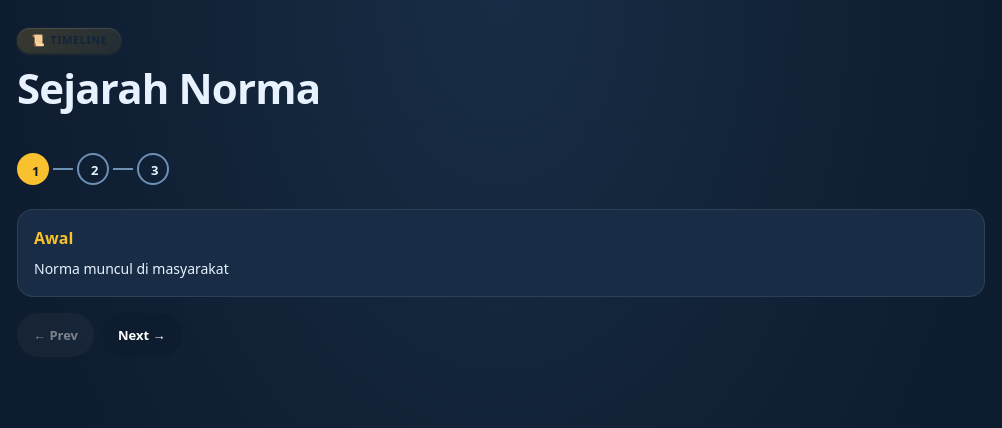
PERFECT-MPI-RENDER-COMPLETE-02 — Scope A: Timeline Story › 2. timeline next/prev changes active step
This screenshot has width=1002, height=428.
Expected: the element with test id "timeline-event-detail" shows "Awal", [34, 227, 73, 249]
// Click next
Click the button with test id "timeline-next" at (142, 335), box [102, 313, 182, 357]
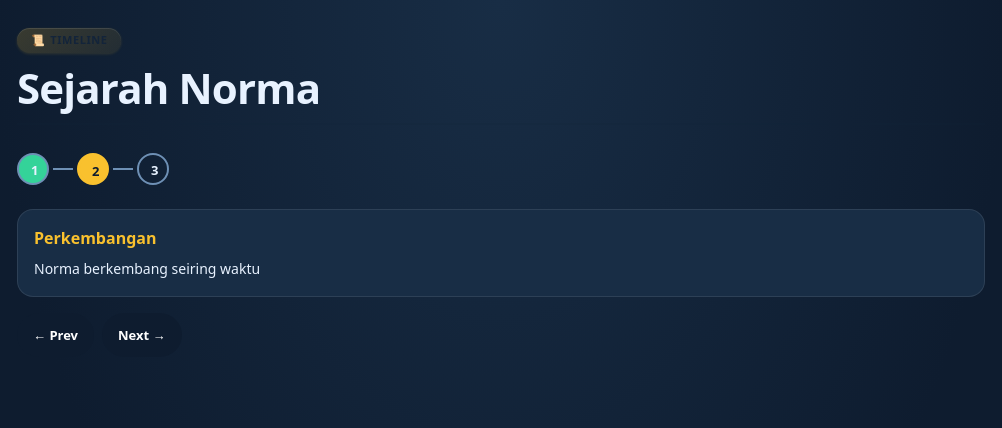
Expected: the element with test id "timeline-event-detail" shows "Perkembangan", [34, 227, 156, 249]
// Click prev
Click the button with test id "timeline-prev" at (56, 335), box [17, 313, 94, 357]
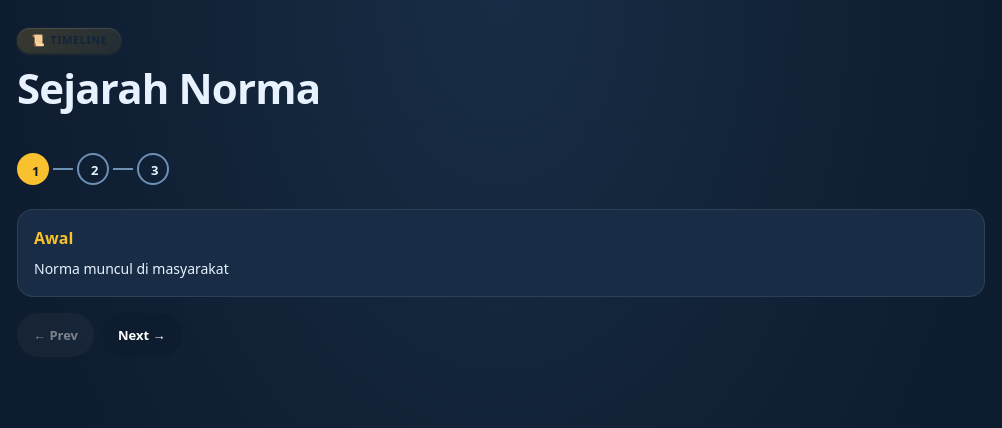
Expected: the element with test id "timeline-event-detail" shows "Awal", [34, 227, 73, 249]
